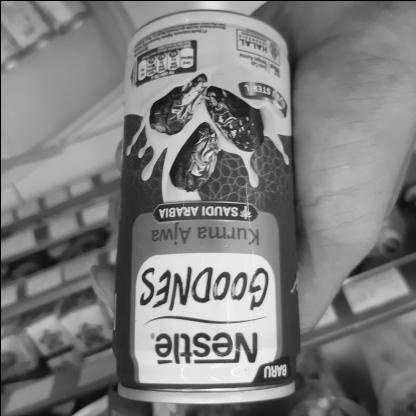alumunium_can: (116, 13, 315, 413)
